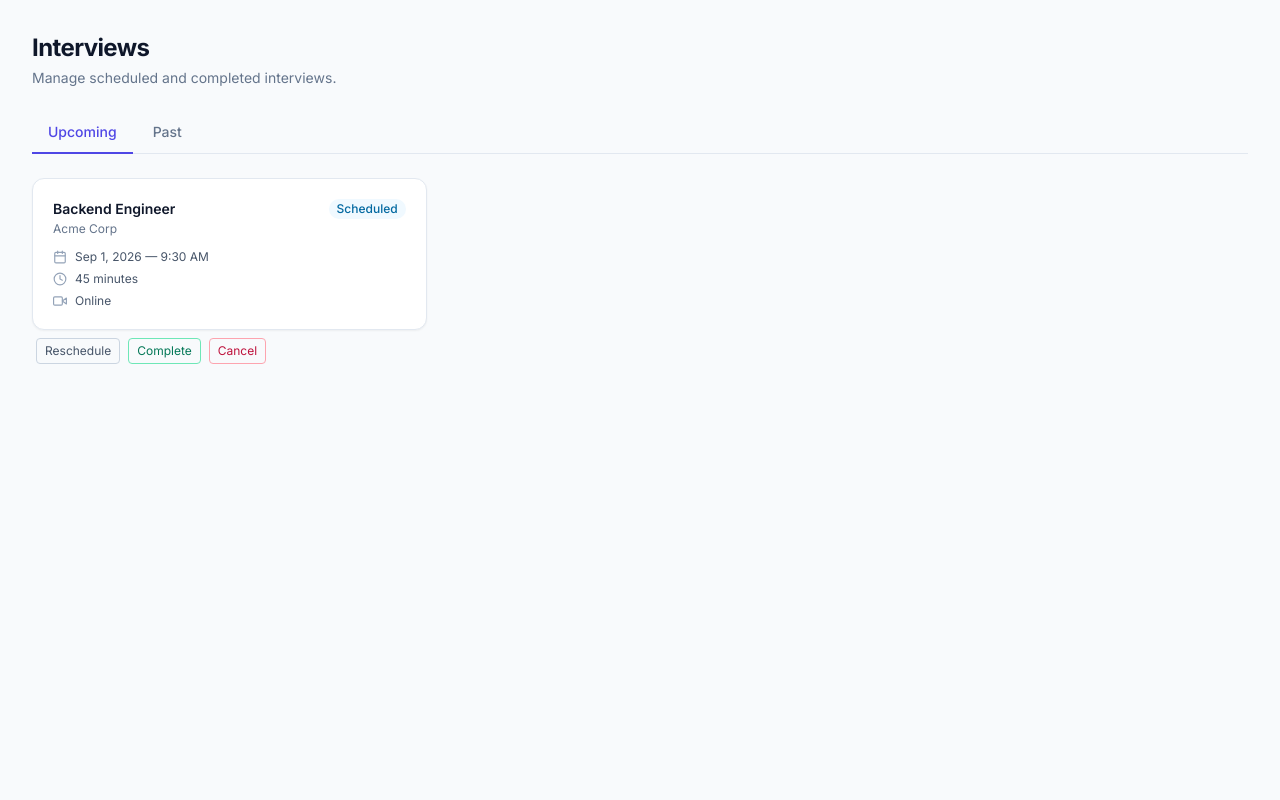
Shortlisted and Interviews › names the candidate in the cancel confirmation
The width and height of the screenshot is (1280, 800).
Click the button "Cancel" at (237, 351), box [209,338,266,364]
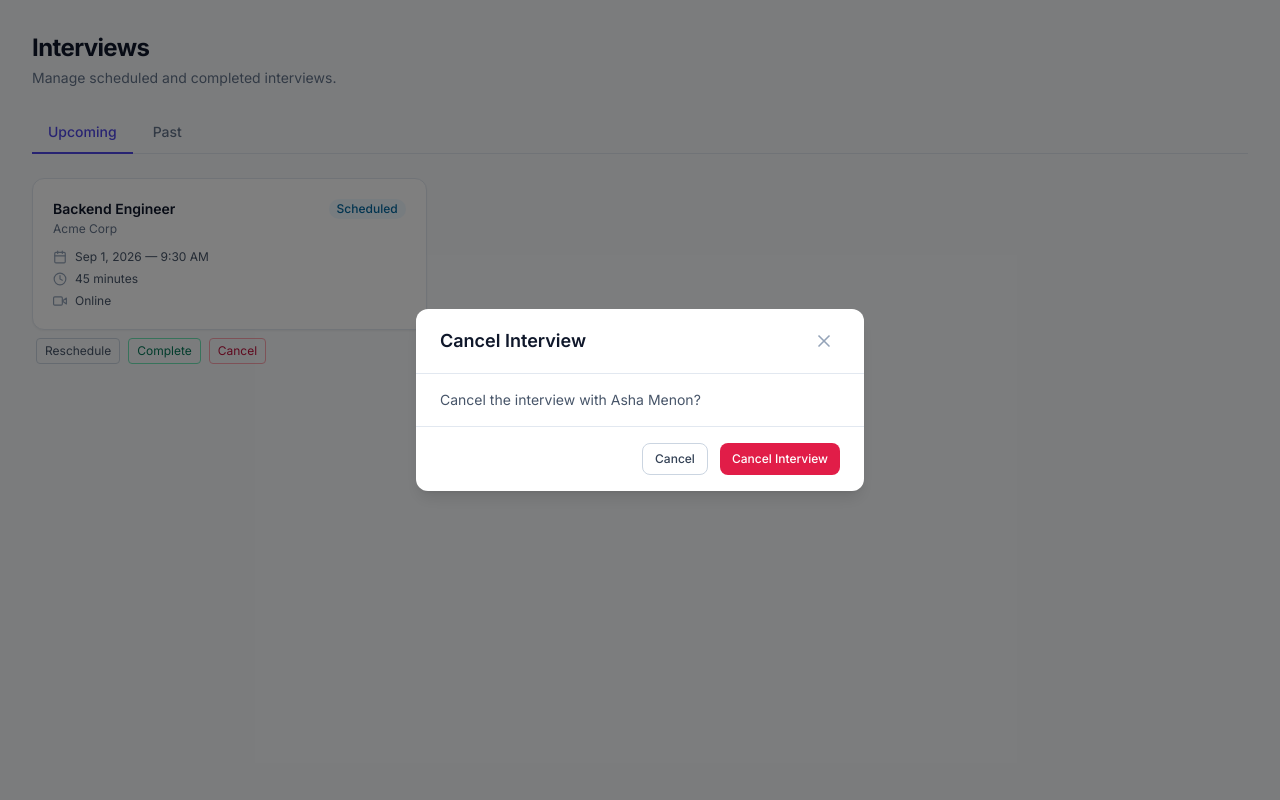
Expected: the text "Cancel the interview with Asha Menon?" is shown, [440,391,701,408]
